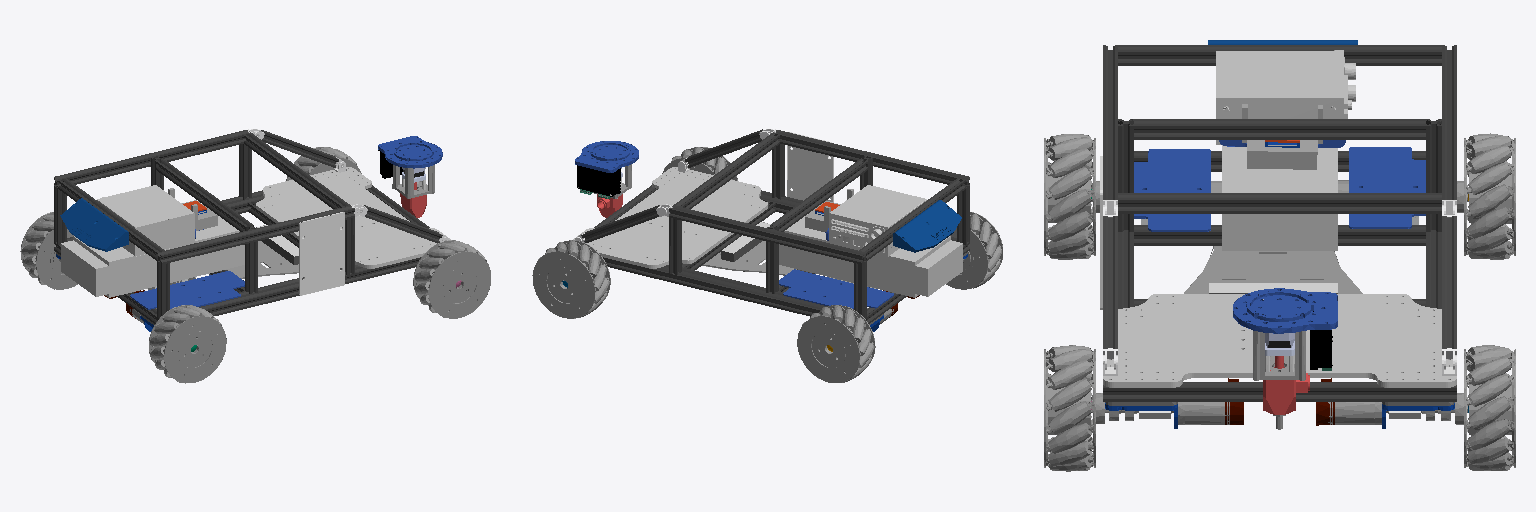
--- Facts derived from the render (not from the file) ---
3 views of the same robot in one strip: view 1: azimuth 30°, elevation 25°; view 2: azimuth 150°, elevation 25°; view 3: azimuth 270°, elevation 25° (orthographic).
Robot: armstone — 24 links, 23 joints (6 revolute, 4 continuous, 13 fixed); root link base_link_footprint; default pose: every joint at zero.
Visible links, largest first — view 1: base_link, mount_plate_link, battery48_link, motor_gearbox_br, motor_gearbox_fr, dc_box_link, extruder_link, motor_gearbox_bl, motor_gearbox_fl; view 2: base_link, mount_plate_link, battery48_link, motor_gearbox_bl, motor_gearbox_fl, dc_box_link, extruder_link, motor_gearbox_br, motor_gearbox_fr; view 3: base_link, mount_plate_link, motor_gearbox_fr, motor_gearbox_fl, dc_box_link, extruder_link, battery48_link, motor_gearbox_bl, motor_gearbox_br.
Boxes of the visible links, <box> form: base_link: <box>54,129,448,323</box>; mount_plate_link: <box>256,167,450,268</box>; battery48_link: <box>61,216,244,297</box>; motor_gearbox_br: <box>126,290,226,383</box>; motor_gearbox_fr: <box>413,240,490,318</box>; dc_box_link: <box>97,185,194,256</box>; extruder_link: <box>378,136,442,217</box>; motor_gearbox_bl: <box>20,212,116,298</box>; motor_gearbox_fl: <box>286,147,361,180</box>; base_link: <box>575,129,969,323</box>; mount_plate_link: <box>573,167,767,268</box>; battery48_link: <box>779,214,962,297</box>; motor_gearbox_bl: <box>797,290,897,382</box>; motor_gearbox_fl: <box>532,240,610,318</box>; dc_box_link: <box>829,185,926,256</box>; extruder_link: <box>575,141,638,217</box>; motor_gearbox_br: <box>907,212,1002,298</box>; motor_gearbox_fr: <box>662,147,737,180</box>; base_link: <box>1100,40,1456,401</box>; mount_plate_link: <box>1103,294,1456,387</box>; motor_gearbox_fr: <box>1044,345,1243,471</box>; motor_gearbox_fl: <box>1316,345,1515,470</box>; dc_box_link: <box>1216,50,1355,144</box>; extruder_link: <box>1233,288,1337,429</box>; battery48_link: <box>1222,145,1337,250</box>; motor_gearbox_bl: <box>1338,133,1515,259</box>; motor_gearbox_br: <box>1044,134,1221,259</box>.
Size in the robot's own frame: 0.8751 by 0.6045 by 0.2809 metres.
Meshes: 13 distinct files referenced, 9 mesh visuals loaded (1 binary STL, 5 Collada DAE); not drawn: 7 (reference not matched to a file when rendering).

The robot description file, URDF, robot "armstone":
<?xml version="1.0" encoding="utf-8"?>
<!-- =================================================================================== -->
<!-- |    This document was autogenerated by xacro from as.xacro                       | -->
<!-- |    EDITING THIS FILE BY HAND IS NOT RECOMMENDED                                 | -->
<!-- =================================================================================== -->
<robot name="armstone" xmlns:controller="http://playerstage.sourceforge.net/gazebo/xmlschema/#controller" xmlns:interface="http://playerstage.sourceforge.net/gazebo/xmlschema/#interface" xmlns:sensor="http://playerstage.sourceforge.net/gazebo/xmlschema/#sensor">
  <!-- alluminium frame only -->
  <material name="Orange">
    <color rgba="1.0 0.4 0.0 1.0"/>
  </material>
  <material name="Grey">
    <color rgba="0.7 0.7 0.7 1.0"/>
  </material>
  <material name="DarkGrey">
    <color rgba="0.3 0.3 0.3 1.0"/>
  </material>
  <material name="White">
    <color rgba="1.0 1.0 1.0 1.0"/>
  </material>
  <material name="Black">
    <color rgba="0.0 0.0 0.0 1.0"/>
  </material>
  <material name="Red">
    <color rgba="1.0 0.0 0.0 1.0"/>
  </material>
  <material name="Green">
    <color rgba="0.0 1.0 0.0 1.0"/>
  </material>
  <material name="Blue">
    <color rgba="0.0 0.0 0.8 1.0"/>
  </material>
  <material name="LightGrey">
    <color rgba="0.82 0.82 0.82 1.0"/>
  </material>
  <material name="OrangeClear">
    <color rgba="1.0 0.4 0.0 .5"/>
  </material>
  <material name="GreyClear">
    <color rgba="0.7 0.7 0.7 .5"/>
  </material>
  <material name="DarkGreyClear">
    <color rgba="0.3 0.3 0.3 .5"/>
  </material>
  <material name="WhiteClear">
    <color rgba="1.0 1.0 1.0 .5"/>
  </material>
  <material name="BlackClear">
    <color rgba="0.0 0.0 0.0 .5"/>
  </material>
  <material name="RedClear">
    <color rgba="1.0 0.0 0.0 .5"/>
  </material>
  <material name="GreenClear">
    <color rgba="0.0 1.0 0.0 .5"/>
  </material>
  <material name="BlueClear">
    <color rgba="0.0 0.0 0.8 .5"/>
  </material>
  <material name="LightGreyClear">
    <color rgba="0.82 0.82 0.82 .5"/>
  </material>
  <!-- Projection of base_link origin to xy plane -->
  <link name="base_link_footprint"/>
  <joint name="joint0" type="fixed">
    <parent link="base_link_footprint"/>
    <child link="base_link_base"/>
    <origin rpy="0 0 0" xyz="0 0 0.1005"/>
  </joint>
  <!-- Projection of base_link origin to bottom of baselink collision box (i.e. raised only by wheels) -->
  <link name="base_link_base"/>
  <joint name="joint1" type="fixed">
    <parent link="base_link_base"/>
    <child link="base_link"/>
    <origin rpy="0 0 0" xyz="0 0 0.086"/>
  </joint>
  <!-- baselink -->
  <link name="base_link">
    <inertial>
      <origin rpy="0 0 0" xyz="0 0 0"/>
      <mass value="3.5"/>
      <inertia ixx="0.0690109583333" ixy="0" ixz="0" iyy="0.159828666667" iyz="0" izz="0.211582291667"/>
    </inertial>
    <visual>
      <origin rpy="0 0 0" xyz="0.35 0 -0.072"/>
      <geometry>
        <mesh filename="package://as_description/meshes/chasis.dae"/>
      </geometry>
    </visual>
    <collision>
      <geometry>
        <box size="0.72 0.455 0.172"/>
      </geometry>
    </collision>
    <gazebo reference="base_link">
      <material>Gazebo/DarkGrey</material>
    </gazebo>
  </link>
  <link name="motor_gearbox_fl">
    <inertial>
      <origin rpy="0 0 0" xyz="0 0 0"/>
      <mass value="0.5"/>
      <inertia ixx="0.00209479166667" ixy="0" ixz="0" iyy="0.00209479166667" iyz="0" izz="0.00015625"/>
    </inertial>
    <visual>
      <origin rpy="1.57079632679 -1.57079632679 0" xyz="0 0.0245 0.025"/>
      <geometry>
        <mesh filename="package://as_description/meshes/motor.dae"/>
      </geometry>
    </visual>
    <collision>
      <geometry>
        <cylinder length="0.22" radius="0.025"/>
      </geometry>
    </collision>
  </link>
  <joint name="motor_wheel_joint_fl" type="continuous">
    <parent link="motor_gearbox_fl"/>
    <child link="omniwheel_fl"/>
    <origin rpy="0 0.785398163397 0" xyz="0 0 0.11"/>
    <axis xyz="-1 0 0"/>
    <limit effort="100" velocity="5"/>
    <dynamics damping="1.5" friction="1.0"/>
  </joint>
  <transmission name="motor_wheel_joint_transmission_fl">
    <type>transmission_interface/SimpleTransmission</type>
    <joint name="motor_wheel_joint_fl">
      <hardwareInterface>hardware_interface/VelocityJointInterface</hardwareInterface>
    </joint>
    <actuator name="motor_wheel_joint_actuator_fl">
      <mechanicalReduction>1</mechanicalReduction>
      <hardwareInterface>VelocityJointInterface</hardwareInterface>
    </actuator>
  </transmission>
  <link name="omniwheel_fl">
    <inertial>
      <origin rpy="0 0 0" xyz="0 0 0"/>
      <mass value="0.6"/>
      <inertia ixx="0.00034656" ixy="0" ixz="0" iyy="0.00034656" iyz="0" izz="0.00034656"/>
    </inertial>
    <!-- No visual. -->
    <collision>
      <geometry>
        <sphere radius="0.076"/>
      </geometry>
    </collision>
    <visual>
      <!-- dummy visual so gazebo doesnt freakout -->
      <geometry>
        <sphere radius="0.0253333333333"/>
      </geometry>
    </visual>
    <surface>
      <bounce restitution_coefficient="0.0001"/>
    </surface>
  </link>
  <gazebo reference="omniwheel_fl">
    <!-- not sure if mu or mu1 is used -->
    <mu1 value="0.15"/>
    <mu2 value="1.5"/>
    <kp value="10000000.0"/>
    <kd value="10000.0"/>
    <fdir1 value="1 0 0"/>
    <!-- <maxContacts value= "1"/> -->
    <material>Gazebo/White</material>
  </gazebo>
  <link name="motor_gearbox_fr">
    <inertial>
      <origin rpy="0 0 0" xyz="0 0 0"/>
      <mass value="0.5"/>
      <inertia ixx="0.00209479166667" ixy="0" ixz="0" iyy="0.00209479166667" iyz="0" izz="0.00015625"/>
    </inertial>
    <visual>
      <origin rpy="1.57079632679 -1.57079632679 0" xyz="0 0.0245 0.025"/>
      <geometry>
        <mesh filename="package://as_description/meshes/motor.dae"/>
      </geometry>
    </visual>
    <collision>
      <geometry>
        <cylinder length="0.22" radius="0.025"/>
      </geometry>
    </collision>
  </link>
  <joint name="motor_wheel_joint_fr" type="continuous">
    <parent link="motor_gearbox_fr"/>
    <child link="omniwheel_fr"/>
    <origin rpy="0 -0.785398163397 0" xyz="0 0 0.11"/>
    <axis xyz="-1 0 0"/>
    <limit effort="100" velocity="5"/>
    <dynamics damping="1.5" friction="1.0"/>
  </joint>
  <transmission name="motor_wheel_joint_transmission_fr">
    <type>transmission_interface/SimpleTransmission</type>
    <joint name="motor_wheel_joint_fr">
      <hardwareInterface>hardware_interface/VelocityJointInterface</hardwareInterface>
    </joint>
    <actuator name="motor_wheel_joint_actuator_fr">
      <mechanicalReduction>1</mechanicalReduction>
      <hardwareInterface>VelocityJointInterface</hardwareInterface>
    </actuator>
  </transmission>
  <link name="omniwheel_fr">
    <inertial>
      <origin rpy="0 0 0" xyz="0 0 0"/>
      <mass value="0.6"/>
      <inertia ixx="0.00034656" ixy="0" ixz="0" iyy="0.00034656" iyz="0" izz="0.00034656"/>
    </inertial>
    <!-- No visual. -->
    <collision>
      <geometry>
        <sphere radius="0.076"/>
      </geometry>
    </collision>
    <visual>
      <!-- dummy visual so gazebo doesnt freakout -->
      <geometry>
        <sphere radius="0.0253333333333"/>
      </geometry>
    </visual>
    <surface>
      <bounce restitution_coefficient="0.0001"/>
    </surface>
  </link>
  <gazebo reference="omniwheel_fr">
    <!-- not sure if mu or mu1 is used -->
    <mu1 value="0.15"/>
    <mu2 value="1.5"/>
    <kp value="10000000.0"/>
    <kd value="10000.0"/>
    <fdir1 value="1 0 0"/>
    <!-- <maxContacts value= "1"/> -->
    <material>Gazebo/White</material>
  </gazebo>
  <link name="motor_gearbox_bl">
    <inertial>
      <origin rpy="0 0 0" xyz="0 0 0"/>
      <mass value="0.5"/>
      <inertia ixx="0.00209479166667" ixy="0" ixz="0" iyy="0.00209479166667" iyz="0" izz="0.00015625"/>
    </inertial>
    <visual>
      <origin rpy="1.57079632679 -1.57079632679 0" xyz="0 0.0245 0.025"/>
      <geometry>
        <mesh filename="package://as_description/meshes/motor.dae"/>
      </geometry>
    </visual>
    <collision>
      <geometry>
        <cylinder length="0.22" radius="0.025"/>
      </geometry>
    </collision>
  </link>
  <joint name="motor_wheel_joint_bl" type="continuous">
    <parent link="motor_gearbox_bl"/>
    <child link="omniwheel_bl"/>
    <origin rpy="0 -0.785398163397 0" xyz="0 0 0.11"/>
    <axis xyz="1 0 0"/>
    <limit effort="100" velocity="5"/>
    <dynamics damping="1.5" friction="1.0"/>
  </joint>
  <transmission name="motor_wheel_joint_transmission_bl">
    <type>transmission_interface/SimpleTransmission</type>
    <joint name="motor_wheel_joint_bl">
      <hardwareInterface>hardware_interface/VelocityJointInterface</hardwareInterface>
    </joint>
    <actuator name="motor_wheel_joint_actuator_bl">
      <mechanicalReduction>1</mechanicalReduction>
      <hardwareInterface>VelocityJointInterface</hardwareInterface>
    </actuator>
  </transmission>
  <link name="omniwheel_bl">
    <inertial>
      <origin rpy="0 0 0" xyz="0 0 0"/>
      <mass value="0.6"/>
      <inertia ixx="0.00034656" ixy="0" ixz="0" iyy="0.00034656" iyz="0" izz="0.00034656"/>
    </inertial>
    <!-- No visual. -->
    <collision>
      <geometry>
        <sphere radius="0.076"/>
      </geometry>
    </collision>
    <visual>
      <!-- dummy visual so gazebo doesnt freakout -->
      <geometry>
        <sphere radius="0.0253333333333"/>
      </geometry>
    </visual>
    <surface>
      <bounce restitution_coefficient="0.0001"/>
    </surface>
  </link>
  <gazebo reference="omniwheel_bl">
    <!-- not sure if mu or mu1 is used -->
    <mu1 value="0.15"/>
    <mu2 value="1.5"/>
    <kp value="10000000.0"/>
    <kd value="10000.0"/>
    <fdir1 value="1 0 0"/>
    <!-- <maxContacts value= "1"/> -->
    <material>Gazebo/White</material>
  </gazebo>
  <link name="motor_gearbox_br">
    <inertial>
      <origin rpy="0 0 0" xyz="0 0 0"/>
      <mass value="0.5"/>
      <inertia ixx="0.00209479166667" ixy="0" ixz="0" iyy="0.00209479166667" iyz="0" izz="0.00015625"/>
    </inertial>
    <visual>
      <origin rpy="1.57079632679 -1.57079632679 0" xyz="0 0.0245 0.025"/>
      <geometry>
        <mesh filename="package://as_description/meshes/motor.dae"/>
      </geometry>
    </visual>
    <collision>
      <geometry>
        <cylinder length="0.22" radius="0.025"/>
      </geometry>
    </collision>
  </link>
  <joint name="motor_wheel_joint_br" type="continuous">
    <parent link="motor_gearbox_br"/>
    <child link="omniwheel_br"/>
    <origin rpy="0 0.785398163397 0" xyz="0 0 0.11"/>
    <axis xyz="1 0 0"/>
    <limit effort="100" velocity="5"/>
    <dynamics damping="1.5" friction="1.0"/>
  </joint>
  <transmission name="motor_wheel_joint_transmission_br">
    <type>transmission_interface/SimpleTransmission</type>
    <joint name="motor_wheel_joint_br">
      <hardwareInterface>hardware_interface/VelocityJointInterface</hardwareInterface>
    </joint>
    <actuator name="motor_wheel_joint_actuator_br">
      <mechanicalReduction>1</mechanicalReduction>
      <hardwareInterface>VelocityJointInterface</hardwareInterface>
    </actuator>
  </transmission>
  <link name="omniwheel_br">
    <inertial>
      <origin rpy="0 0 0" xyz="0 0 0"/>
      <mass value="0.6"/>
      <inertia ixx="0.00034656" ixy="0" ixz="0" iyy="0.00034656" iyz="0" izz="0.00034656"/>
    </inertial>
    <!-- No visual. -->
    <collision>
      <geometry>
        <sphere radius="0.076"/>
      </geometry>
    </collision>
    <visual>
      <!-- dummy visual so gazebo doesnt freakout -->
      <geometry>
        <sphere radius="0.0253333333333"/>
      </geometry>
    </visual>
    <surface>
      <bounce restitution_coefficient="0.0001"/>
    </surface>
  </link>
  <gazebo reference="omniwheel_br">
    <!-- not sure if mu or mu1 is used -->
    <mu1 value="0.15"/>
    <mu2 value="1.5"/>
    <kp value="10000000.0"/>
    <kd value="10000.0"/>
    <fdir1 value="1 0 0"/>
    <!-- <maxContacts value= "1"/> -->
    <material>Gazebo/White</material>
  </gazebo>
  <joint name="motor_wheel_assembly_joint_fl" type="fixed">
    <parent link="base_link"/>
    <child link="motor_gearbox_fl"/>
    <origin rpy="1.57079632679 0 3.14159265359" xyz="0.3215 0.15595 -0.1105"/>
  </joint>
  <joint name="motor_wheel_assembly_joint_fr" type="fixed">
    <parent link="base_link"/>
    <child link="motor_gearbox_fr"/>
    <origin rpy="1.57079632679 0 0" xyz="0.3215 -0.15595 -0.1105"/>
  </joint>
  <joint name="motor_wheel_assembly_joint_bl" type="fixed">
    <parent link="base_link"/>
    <child link="motor_gearbox_bl"/>
    <origin rpy="1.57079632679 0 3.14159265359" xyz="-0.3215 0.15595 -0.1105"/>
  </joint>
  <joint name="motor_wheel_assembly_joint_br" type="fixed">
    <parent link="base_link"/>
    <child link="motor_gearbox_br"/>
    <origin rpy="1.57079632679 0 0" xyz="-0.3215 -0.15595 -0.1105"/>
  </joint>
  <joint name="battery48_joint" type="fixed">
    <parent link="base_link"/>
    <child link="battery48_link"/>
    <origin rpy="0 0 0" xyz="-0.24 0  -0.0235"/>
  </joint>
  <link name="battery48_link">
    <inertial>
      <origin rpy="0 0 0" xyz="0 0 0"/>
      <mass value="6.7"/>
      <inertia ixx="0.0165964583333" ixy="0" ixz="0" iyy="0.0933672916667" iyz="0" izz="0.101895833333"/>
    </inertial>
    <visual>
      <origin rpy="0 0 3.14159265359" xyz="0.035 0 -0.0425"/>
      <geometry>
        <mesh filename="package://as_description/meshes/battery.dae"/>
      </geometry>
      <material name="LightGrey"/>
    </visual>
    <collision>
      <geometry>
        <box size="0.4 0.15 0.085"/>
      </geometry>
    </collision>
  </link>
  <gazebo reference="battery48_link">
    <material>Gazebo/LightGrey</material>
  </gazebo>
  <joint name="dc_box_joint" type="fixed">
    <parent link="base_link"/>
    <child link="dc_box_link"/>
    <origin rpy=" 0 0 0" xyz=" -0.2675 0 0.052"/>
  </joint>
  <link name="dc_box_link">
    <inertial>
      <origin rpy="0 0 0" xyz="0 0 0"/>
      <mass value="1.8"/>
      <inertia ixx="0.00384735" ixy="0" ixz="0" iyy="0.0055536" iyz="0" izz="0.00801375"/>
    </inertial>
    <visual>
      <origin rpy="0 0 1.57079632679 " xyz="0 0 0.034"/>
      <geometry>
        <mesh filename="package://as_description/meshes/dcbox.dae"/>
      </geometry>
      <material name="LightGrey"/>
    </visual>
    <collision>
      <geometry>
        <box size="0.18 0.145 0.068"/>
      </geometry>
    </collision>
  </link>
  <gazebo reference="dc_box_link">
    <material>Gazebo/LightGrey</material>
  </gazebo>
  <joint name="mount_plate_joint" type="fixed">
    <parent link="base_link"/>
    <child link="mount_plate_link"/>
    <origin rpy="0 0 0" xyz=" 0.225 0 -0.062"/>
  </joint>
  <link name="mount_plate_link">
    <inertial>
      <origin rpy="0 0 0" xyz="0 0 0"/>
      <mass value="2.65356"/>
      <inertia ixx="0.04579359057" ixy="0" ixz="0" iyy="0.01613452932" iyz="0" izz="0.06189981525"/>
    </inertial>
    <visual>
      <origin rpy="0 0 1.57079632679" xyz="0 0 -0.004"/>
      <geometry>
        <mesh filename="package://as_description/meshes/mounting_plate.stl"/>
      </geometry>
      <material name="LightGrey"/>
    </visual>
    <collision>
      <geometry>
        <box size="0.27 0.455 0.008"/>
      </geometry>
    </collision>
  </link>
  <gazebo reference="mount_plate_link">
    <material>Gazebo/LightGrey</material>
  </gazebo>
  <!-- <xacro:compressor parent="base_link" xyz="${compressor_xyz}" rpy="${compressor_rpy}" /> -->
  <!-- <xacro:material3 parent="base_link" xyz="${material3_xyz}" rpy="${material3_rpy}" /> -->
  <!--
  Author: Jason Peng <[email redacted]>
  Contributers:
-->
  <joint name="xarmworld_joint" type="fixed">
    <parent link="base_link"/>
    <child link="xarmlink_base"/>
    <origin rpy="0 0 0" xyz="0.175 0 -0.053"/>
  </joint>
  <material name="xarmBlack">
    <color rgba="0.0 0.0 0.0 1.0"/>
  </material>
  <material name="xarmRed">
    <color rgba="0.8 0.0 0.0 1.0"/>
  </material>
  <material name="xarmWhite">
    <color rgba="1.0 1.0 1.0 1.0"/>
  </material>
  <material name="xarmSilver">
    <color rgba="0.753 0.753 0.753 1.0"/>
  </material>
  <link name="xarmlink_base">
    <visual>
      <geometry>
        <mesh filename="package://xarm_description/meshes/xarm6/visual/base.stl"/>
      </geometry>
      <origin rpy="0 0 0" xyz="0 0 0"/>
      <material name="xarmWhite"/>
    </visual>
    <collision>
      <geometry>
        <mesh filename="package://xarm_description/meshes/xarm6/visual/base.stl"/>
      </geometry>
      <origin rpy="0 0 0" xyz="0 0 0"/>
    </collision>
    <inertial>
      <origin rpy="0 0 0" xyz="0.0 0.0 0.09103"/>
      <mass value="2.7"/>
      <inertia ixx="0.00494875" ixy="-3.5E-06" ixz="1.25E-05" iyy="0.00494174" iyz="1.67E-06" izz="0.002219"/>
    </inertial>
  </link>
  <link name="xarmlink1">
    <visual>
      <geometry>
        <mesh filename="package://xarm_description/meshes/xarm6/visual/link1.stl"/>
      </geometry>
      <origin rpy="0 0 0" xyz="0 0 0"/>
      <material name="xarmWhite"/>
    </visual>
    <collision>
      <geometry>
        <mesh filename="package://xarm_description/meshes/xarm6/visual/link1.stl"/>
      </geometry>
      <origin rpy="0 0 0" xyz="0 0 0"/>
    </collision>
    <inertial>
      <origin rpy="0 0 0" xyz="-0.002 0.02692 -0.01332"/>
      <mass value="2.16"/>
      <inertia ixx="0.00539427" ixy="1.095E-05" ixz="1.635E-06" iyy="0.0048979" iyz="0.000793" izz="0.00311573"/>
    </inertial>
  </link>
  <joint name="xarmjoint1" type="revolute">
    <parent link="xarmlink_base"/>
    <child link="xarmlink1"/>
    <origin rpy="0 0 0" xyz="0 0 0.267"/>
    <axis xyz="0 0 1"/>
    <limit effort="50.0" lower="-3.11017672705" upper="3.11017672705" velocity="3.14"/>
    <dynamics damping="1.0" friction="1.0"/>
  </joint>
  <link name="xarmlink2">
    <visual>
      <geometry>
        <mesh filename="package://xarm_description/meshes/xarm6/visual/link2.stl"/>
      </geometry>
      <origin rpy="0 0 0" xyz="0 0 0"/>
      <material name="xarmWhite"/>
    </visual>
    <collision>
      <geometry>
        <mesh filename="package://xarm_description/meshes/xarm6/visual/link2.stl"/>
      </geometry>
      <origin rpy="0 0 0" xyz="0 0 0"/>
    </collision>
    <inertial>
      <origin rpy="0 0 0" xyz="0.03531 -0.21398 0.03386"/>
      <mass value="1.71"/>
      <inertia ixx="0.0248674" ixy="-0.00430651" ixz="-0.00067797" iyy="0.00485548" iyz="0.00457245" izz="0.02387827"/>
    </inertial>
  </link>
  <joint name="xarmjoint2" type="revolute">
    <parent link="xarmlink1"/>
    <child link="xarmlink2"/>
    <origin rpy="-1.5708 0 0" xyz="0 0 0"/>
    <axis xyz="0 0 1"/>
    <limit effort="50.0" lower="-2.059" upper="2.0944" velocity="3.14"/>
    <dynamics damping="1.0" friction="1.0"/>
  </joint>
  <link name="xarmlink3">
    <visual>
      <geometry>
        <mesh filename="package://xarm_description/meshes/xarm6/visual/link3.stl"/>
      </geometry>
      <origin rpy="0 0 0" xyz="0 0 0"/>
      <material name="xarmWhite"/>
    </visual>
    <collision>
      <geometry>
        <mesh filename="package://xarm_description/meshes/xarm6/visual/link3.stl"/>
      </geometry>
      <origin rpy="0 0 0" xyz="0 0 0"/>
    </collision>
    <inertial>
      <origin rpy="0 0 0" xyz="0.06781 0.10749 0.01457"/>
      <mass value="1.384"/>
      <inertia ixx="0.0053694" ixy="0.0014185" ixz="-0.00092094" iyy="0.0032423" iyz="-0.00169178" izz="0.00501731"/>
    </inertial>
  </link>
  <joint name="xarmjoint3" type="revolute">
    <parent link="xarmlink2"/>
    <child link="xarmlink3"/>
    <origin rpy="0 0 0" xyz="0.0535 -0.2845 0"/>
    <axis xyz="0 0 1"/>
    <limit effort="32.0" lower="-3.11017672705" upper="0.19198" velocity="3.14"/>
    <dynamics damping="1.0" friction="1.0"/>
  </joint>
  <link name="xarmlink4">
    <visual>
      <geometry>
        <mesh filename="package://xarm_description/meshes/xarm6/visual/link4.stl"/>
      </geometry>
      <origin rpy="0 0 0" xyz="0 0 0"/>
      <material name="xarmWhite"/>
    </visual>
    <collision>
      <geometry>
        <mesh filename="package://xarm_description/meshes/xarm6/visual/link4.stl"/>
      </geometry>
      <origin rpy="0 0 0" xyz="0 0 0"/>
    </collision>
    <inertial>
      <origin rpy="0 0 0" xyz="-0.00021 0.02578 -0.02538"/>
      <mass value="1.115"/>
      <inertia ixx="0.00439263" ixy="5.028E-05" ixz="1.374E-05" iyy="0.0040077" iyz="0.00045338" izz="0.00110321"/>
    </inertial>
  </link>
  <joint name="xarmjoint4" type="revolute">
    <parent link="xarmlink3"/>
    <child link="xarmlink4"/>
    <origin rpy="-1.5708 0 0" xyz="0.0775 0.3425 0"/>
    <axis xyz="0 0 1"/>
    <limit effort="32.0" lower="-3.11017672705" upper="3.11017672705" velocity="3.14"/>
    <dynamics damping="1.0" friction="1.0"/>
  </joint>
  <link name="xarmlink5">
    <visual>
      <geometry>
        <mesh filename="package://xarm_description/meshes/xarm6/visual/link5.stl"/>
      </geometry>
      <origin rpy="0 0 0" xyz="0 0 0"/>
      <material name="xarmWhite"/>
    </visual>
    <collision>
      <geometry>
        <mesh filename="package://xarm_description/meshes/xarm6/visual/link5.stl"/>
      </geometry>
      <origin rpy="0 0 0" xyz="0 0 0"/>
    </collision>
    <inertial>
      <origin rpy="0 0 0" xyz="0.05428 0.01781 0.00543"/>
      <mass value="1.275"/>
      <inertia ixx="0.001202758" ixy="0.000492428" ixz="-0.00039147" iyy="0.0022876" iyz="-1.235E-04" izz="0.0026866"/>
    </inertial>
  </link>
  <joint name="xarmjoint5" type="revolute">
    <parent link="xarmlink4"/>
    <child link="xarmlink5"/>
    <origin rpy="1.5708 0 0" xyz="0 0 0"/>
    <axis xyz="0 0 1"/>
    <limit effort="32.0" lower="-1.69297" upper="3.11017672705" velocity="3.14"/>
    <dynamics damping="1.0" friction="1.0"/>
  </joint>
  <link name="xarmlink6">
    <visual>
      <geometry>
        <mesh filename="package://xarm_description/meshes/xarm6/visual/link6.stl"/>
      </geometry>
      <origin rpy="0 0 0" xyz="0 0 0"/>
      <material name="xarmSilver"/>
    </visual>
    <collision>
      <geometry>
        <mesh filename="package://xarm_description/meshes/xarm6/visual/link6.stl"/>
      </geometry>
      <origin rpy="0 0 0" xyz="0 0 0"/>
    </collision>
    <inertial>
      <origin rpy="0 0 0" xyz="0 0.00064 -0.00952"/>
      <mass value="0.1096"/>
      <inertia ixx="4.5293E-05" ixy="0" ixz="0" iyy="4.8111E-05" iyz="0" izz="7.9715E-05"/>
    </inertial>
  </link>
  <joint name="xarmjoint6" type="revolute">
    <parent link="xarmlink5"/>
    <child link="xarmlink6"/>
    <origin rpy="-1.5708 0 0" xyz="0.076 0.097 0"/>
    <axis xyz="0 0 1"/>
    <limit effort="20.0" lower="-3.11017672705" upper="3.11017672705" velocity="3.14"/>
    <dynamics damping="1.0" friction="1.0"/>
  </joint>
  <link name="xarmlink_eef"/>
  <joint name="xarmjoint_eef" type="fixed">
    <origin rpy="0 0 0" xyz="0 0 0"/>
    <parent link="xarmlink6"/>
    <child link="xarmlink_eef"/>
  </joint>
  <transmission name="xarmtran1">
    <type>transmission_interface/SimpleTransmission</type>
    <joint name="xarmjoint1">
      <hardwareInterface>hardware_interface/PositionJointInterface</hardwareInterface>
    </joint>
    <actuator name="xarmmotor1">
      <hardwareInterface>hardware_interface/PositionJointInterface</hardwareInterface>
      <mechanicalReduction>100</mechanicalReduction>
    </actuator>
  </transmission>
  <transmission name="xarmtran2">
    <type>transmission_interface/SimpleTransmission</type>
    <joint name="xarmjoint2">
      <hardwareInterface>hardware_interface/PositionJointInterface</hardwareInterface>
    </joint>
    <actuator name="xarmmotor2">
      <hardwareInterface>hardware_interface/PositionJointInterface</hardwareInterface>
      <mechanicalReduction>100</mechanicalReduction>
    </actuator>
  </transmission>
  <transmission name="xarmtran3">
    <type>transmission_interface/SimpleTransmission</type>
    <joint name="xarmjoint3">
      <hardwareInterface>hardware_interface/PositionJointInterface</hardwareInterface>
    </joint>
    <actuator name="xarmmotor3">
      <hardwareInterface>hardware_interface/PositionJointInterface</hardwareInterface>
      <mechanicalReduction>100</mechanicalReduction>
    </actuator>
  </transmission>
  <transmission name="xarmtran4">
    <type>transmission_interface/SimpleTransmission</type>
    <joint name="xarmjoint4">
      <hardwareInterface>hardware_interface/PositionJointInterface</hardwareInterface>
    </joint>
    <actuator name="xarmmotor3">
      <hardwareInterface>hardware_interface/PositionJointInterface</hardwareInterface>
      <mechanicalReduction>100</mechanicalReduction>
    </actuator>
  </transmission>
  <transmission name="xarmtran5">
    <type>transmission_interface/SimpleTransmission</type>
    <joint name="xarmjoint5">
      <hardwareInterface>hardware_interface/PositionJointInterface</hardwareInterface>
    </joint>
    <actuator name="xarmmotor5">
      <hardwareInterface>hardware_interface/PositionJointInterface</hardwareInterface>
      <mechanicalReduction>100</mechanicalReduction>
    </actuator>
  </transmission>
  <transmission name="xarmtran6">
    <type>transmission_interface/SimpleTransmission</type>
    <joint name="xarmjoint6">
      <hardwareInterface>hardware_interface/PositionJointInterface</hardwareInterface>
    </joint>
    <actuator name="xarmmotor6">
      <hardwareInterface>hardware_interface/PositionJointInterface</hardwareInterface>
      <mechanicalReduction>100</mechanicalReduction>
    </actuator>
  </transmission>
  <gazebo reference="xarmlink_base">
    <selfCollide>true</selfCollide>
  </gazebo>
  <gazebo reference="xarmlink1">
    <selfCollide>true</selfCollide>
  </gazebo>
  <gazebo reference="xarmlink2">
    <selfCollide>true</selfCollide>
  </gazebo>
  <gazebo reference="xarmlink3">
    <selfCollide>true</selfCollide>
  </gazebo>
  <gazebo reference="xarmlink4">
    <selfCollide>true</selfCollide>
  </gazebo>
  <gazebo reference="xarmlink5">
    <selfCollide>true</selfCollide>
  </gazebo>
  <gazebo reference="xarmlink6">
    <selfCollide>true</selfCollide>
  </gazebo>
  <joint name="extruder_joint" type="fixed">
    <parent link="xarmlink_eef"/>
    <child link="extruder_link"/>
    <origin rpy="0 0 -1.57079632679" xyz="0 0 0.085"/>
  </joint>
  <link name="extruder_link">
    <inertial>
      <origin rpy="0 0 0" xyz="0 0 0"/>
      <mass value="1.05"/>
      <inertia ixx="0.003185" ixy="0" ixz="0" iyy="0.003185" iyz="0" izz="0.0013125"/>
    </inertial>
    <visual>
      <origin rpy="0 0 0" xyz="0 0 -0.085"/>
      <geometry>
        <mesh filename="package://as_description/meshes/extruder.dae"/>
      </geometry>
    </visual>
    <collision>
      <origin rpy="0 0 0" xyz="0 0 -0.085"/>
      <geometry>
        <mesh filename="package://as_description/meshes/extruder_collision.dae"/>
      </geometry>
    </collision>
  </link>
  <link name="extruder_ee"/>
  <joint name="extruder_ee_joint" type="fixed">
    <parent link="extruder_link"/>
    <child link="extruder_ee"/>
    <origin rpy="0 0 0" xyz="0 0 0.085"/>
  </joint>
  <!-- Gazebo: My current understanding is that libgazebo_ros_control is a per-model-plugin
      and most recent spawn will override the last one. So there is no nice way to namespace this.
      Therefore the approach here disables individual base/arm plugins and launches a common one -->
  <gazebo>
    <plugin filename="libgazebo_ros_control.so" name="armstone_gazebo_ros_control">
      <robotNamespace>/as_control</robotNamespace>
    </plugin>
  </gazebo>
</robot>
